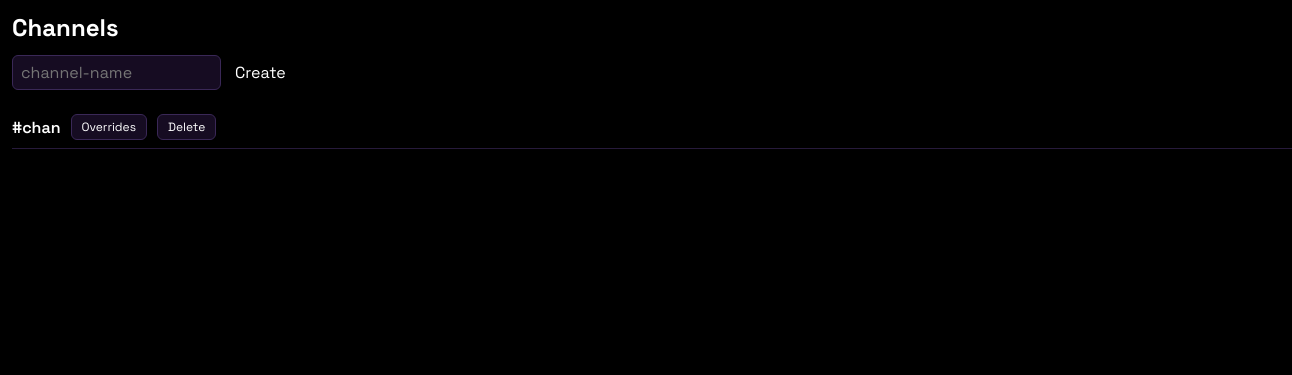
AdminChannelsSection › renders per-role inherit/allow/deny override selects
expect the list item with test id "channel-c1" is shown: met, box [12, 106, 1291, 149]
Click the button "Overrides".
click(109, 127)  # box [70, 114, 147, 140]
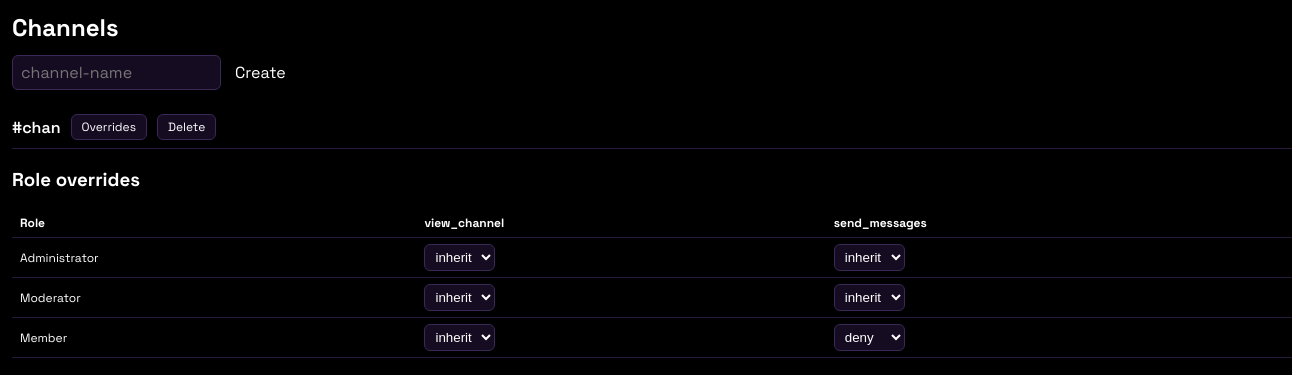
expect the element with test id "override-editor" is shown: met, box [12, 168, 1291, 358]
expect the dropdown named "Member send_messages" shows "deny": met, box [834, 324, 905, 351]
